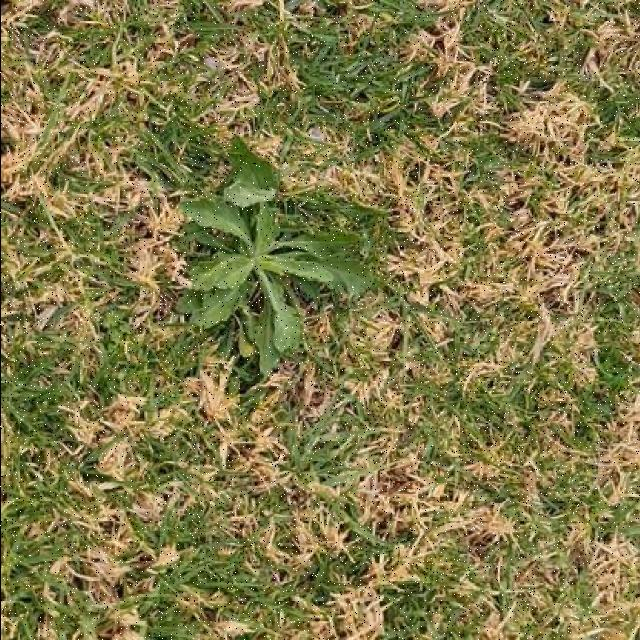weed: (179, 140, 372, 375)
